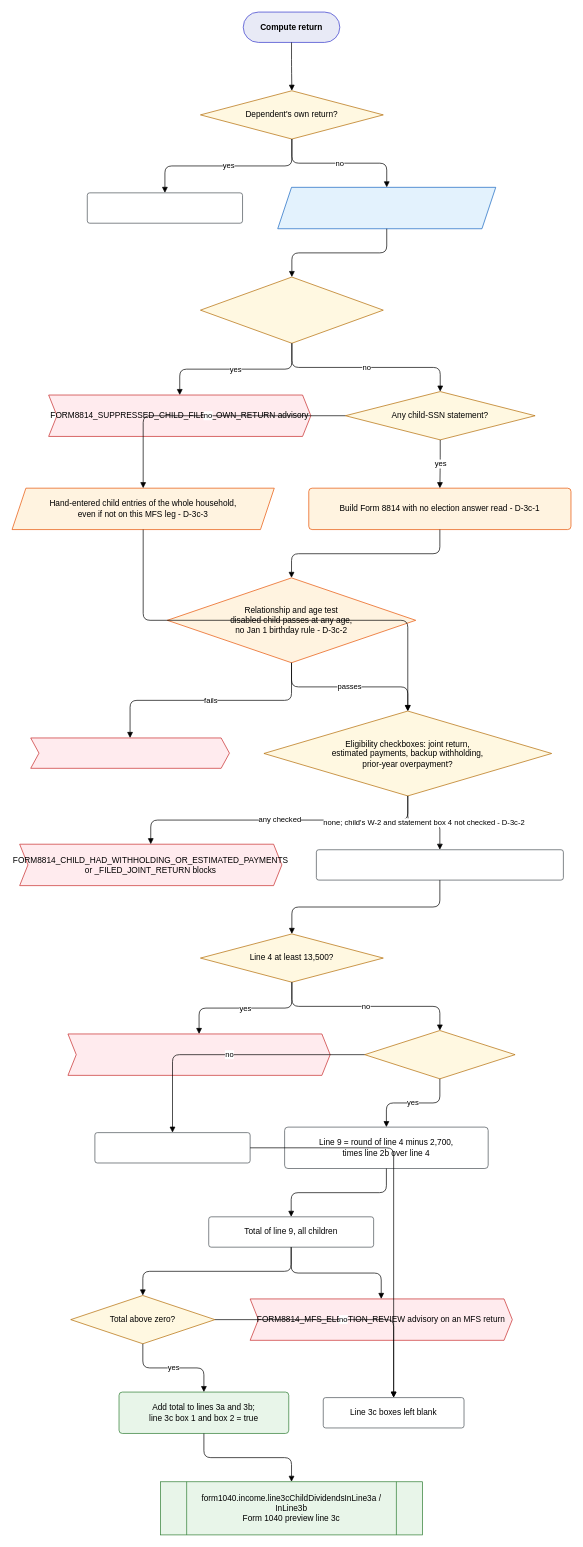
The diagram is 583 pixels wide and 1547 high, and some of its shapes have lost their labels. The centre of each missing label's shape, as x and y in pixels:
Child has an active dependent's own return?: the point at 291,309
Each dependent on this return: 1099-INT / 1099-DIV with the child's SSN: the point at 386,208
FORM8814_CHILD_GROSS_INCOME_TOO_HIGH blocks, not overrideable: the point at 198,1054
FORM8814_CHILD_NOT_QUALIFYING blocks: the point at 129,752
Line 4 = 1a + 2a + 3, nominee portions removed: the point at 439,864
Line 4 over 2,700?: the point at 439,1054
No Form 8814 on this return: the point at 165,207
No line 9; Part II tax only: the point at 172,1147
